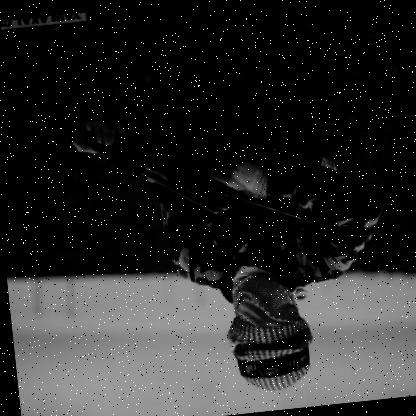rifle: (0, 44, 331, 264)
